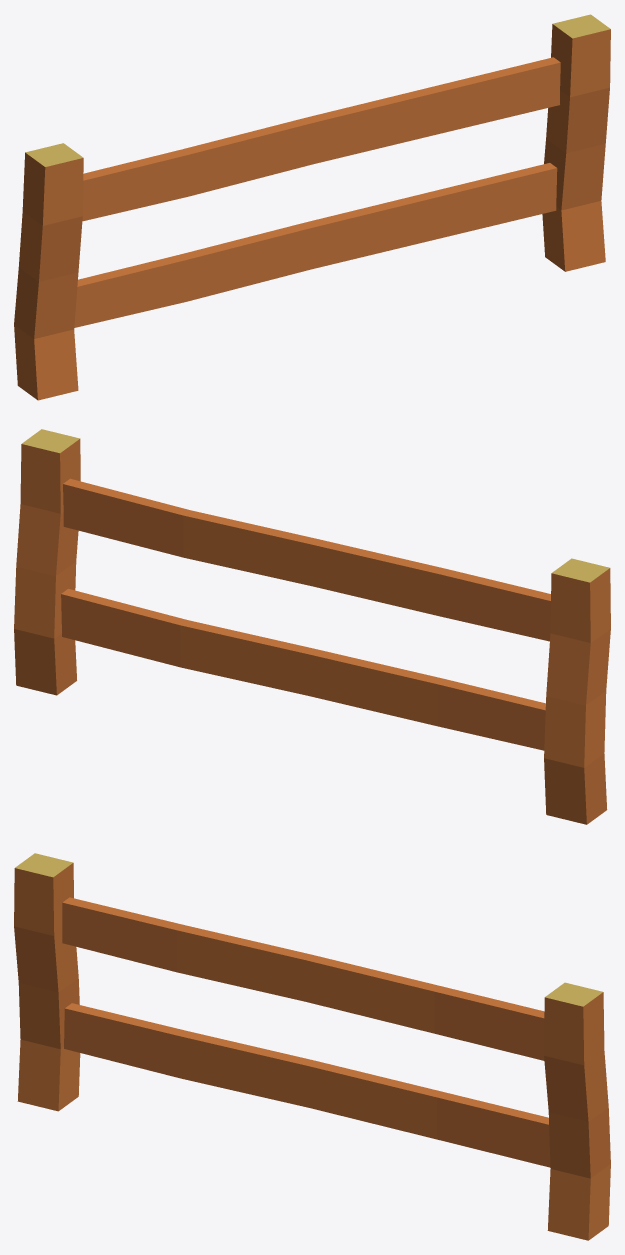
File: fence2.fbx
3 renders of one model, top to bottom at view 1: azimuth 30°, elevation 25°; view 2: azimuth 150°, elevation 25°; view 3: azimuth 330°, elevation 25°, orthographic.
Visible parts, largest first — view 1: Cube; view 2: Cube; view 3: Cube.
Part boxes in pixels (x1,y1,x2,y2): Cube: (14, 14, 610, 400); Cube: (14, 429, 610, 824); Cube: (14, 853, 610, 1240).
Bounding box in the file's own units: 1611 × 641 × 141.
